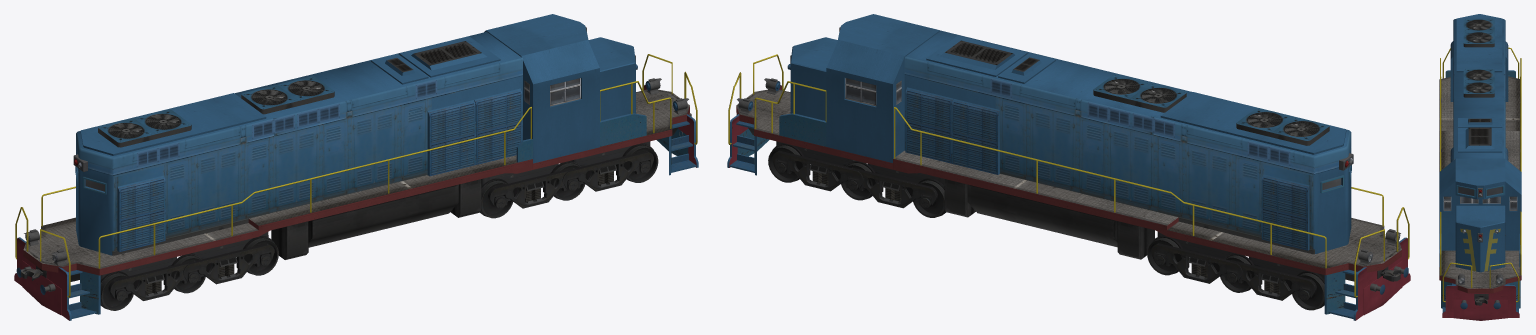
File: TrainA_Locomotive05.FBX
3 views of the same model, side by side, from view 1: azimuth 30°, elevation 25°; view 2: azimuth 150°, elevation 25°; view 3: azimuth 270°, elevation 25° (orthographic). The views are drawn at different scales.
Visible parts, largest first — view 1: TrainA_Locomotive05, TrainA05_LocoWheelDetail, TrainA05_LocoWheels01, TrainA05_LocoWheels04, TrainA05_LocoWheels06, TrainA05_LocoWheels03, TrainA05_LocoWheels02, TrainA05_LocoWheels05; view 2: TrainA_Locomotive05, TrainA05_LocoWheelDetail, TrainA05_LocoWheels01, TrainA05_LocoWheels04, TrainA05_LocoWheels03, TrainA05_LocoWheels06, TrainA05_LocoWheels05, TrainA05_LocoWheels02; view 3: TrainA_Locomotive05, TrainA05_LocoWheelDetail.
Boxes of the visible parts, x1,y1,x2,y2 form: TrainA_Locomotive05: [14, 14, 698, 320]; TrainA05_LocoWheelDetail: [21, 113, 691, 300]; TrainA05_LocoWheels01: [100, 271, 134, 310]; TrainA05_LocoWheels04: [480, 178, 513, 218]; TrainA05_LocoWheels06: [622, 143, 658, 182]; TrainA05_LocoWheels03: [243, 236, 278, 275]; TrainA05_LocoWheels02: [171, 253, 205, 293]; TrainA05_LocoWheels05: [551, 161, 585, 200]; TrainA_Locomotive05: [727, 14, 1410, 320]; TrainA05_LocoWheelDetail: [736, 114, 1401, 300]; TrainA05_LocoWheels01: [1291, 271, 1324, 310]; TrainA05_LocoWheels04: [912, 178, 946, 217]; TrainA05_LocoWheels03: [1147, 235, 1182, 275]; TrainA05_LocoWheels06: [768, 143, 803, 182]; TrainA05_LocoWheels05: [841, 161, 875, 200]; TrainA05_LocoWheels02: [1220, 253, 1254, 292]; TrainA_Locomotive05: [1439, 14, 1521, 320]; TrainA05_LocoWheelDetail: [1474, 294, 1488, 305].
Bounding box in the file's own units: 1098 × 248 × 168.
